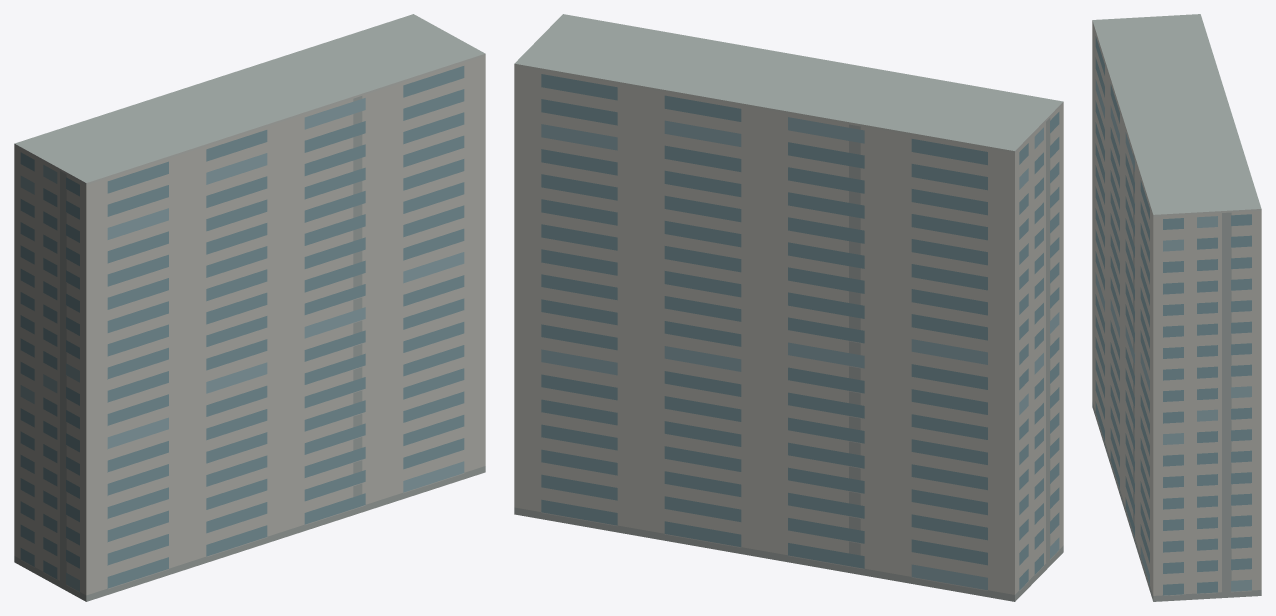
The model's file is residential-25445d48-2903-4dc8-83d0-1e42a8b2df15.glb.
3 views of the same model, side by side, from view 1: azimuth 30°, elevation 25°; view 2: azimuth 150°, elevation 25°; view 3: azimuth 270°, elevation 25° (orthographic). The views are drawn at different scales.
Parts seen in each view (by area): view 1: residential-25445d48-2903-4dc8-83d0-1e42a8b2df15.tmp; view 2: residential-25445d48-2903-4dc8-83d0-1e42a8b2df15.tmp; view 3: residential-25445d48-2903-4dc8-83d0-1e42a8b2df15.tmp.
Part boxes in pixels (x1=…): residential-25445d48-2903-4dc8-83d0-1e42a8b2df15.tmp: x1=14, y1=14, x2=485, y2=601; residential-25445d48-2903-4dc8-83d0-1e42a8b2df15.tmp: x1=514, y1=14, x2=1063, y2=601; residential-25445d48-2903-4dc8-83d0-1e42a8b2df15.tmp: x1=1092, y1=14, x2=1261, y2=601.
Size of the model in its own units: 53.45 by 48 by 19.03.
